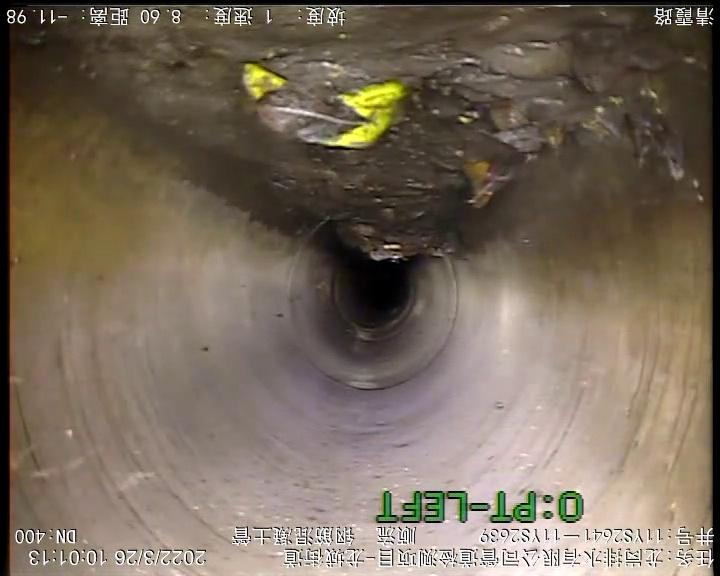CJ: (24, 8, 711, 262)
